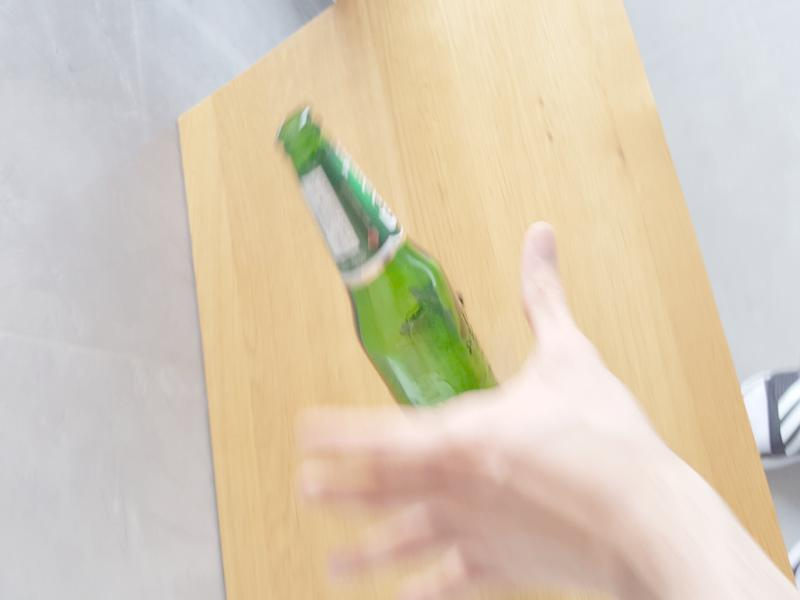Beer: (276, 104, 501, 406)
